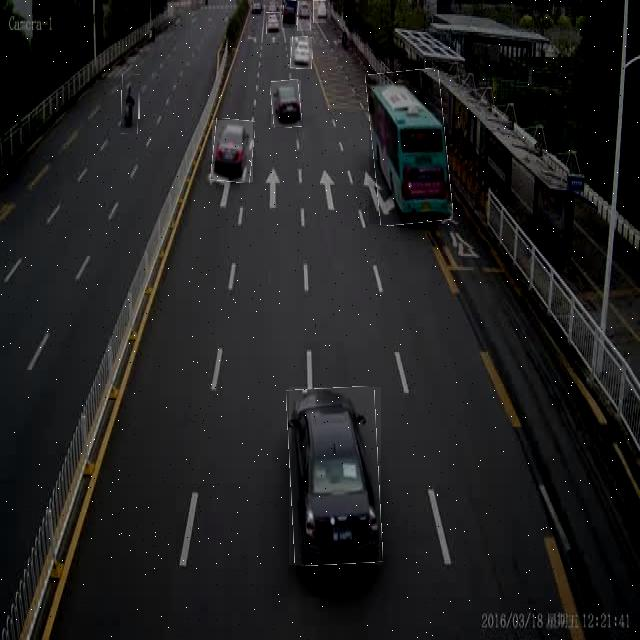Bus: (369, 70, 450, 224)
Car: (289, 387, 381, 565), (212, 120, 253, 182), (271, 80, 301, 127), (290, 37, 312, 69), (282, 0, 297, 28), (298, 1, 311, 32), (267, 12, 283, 37), (313, 0, 326, 23)
Motorcycle: (122, 74, 140, 134)
